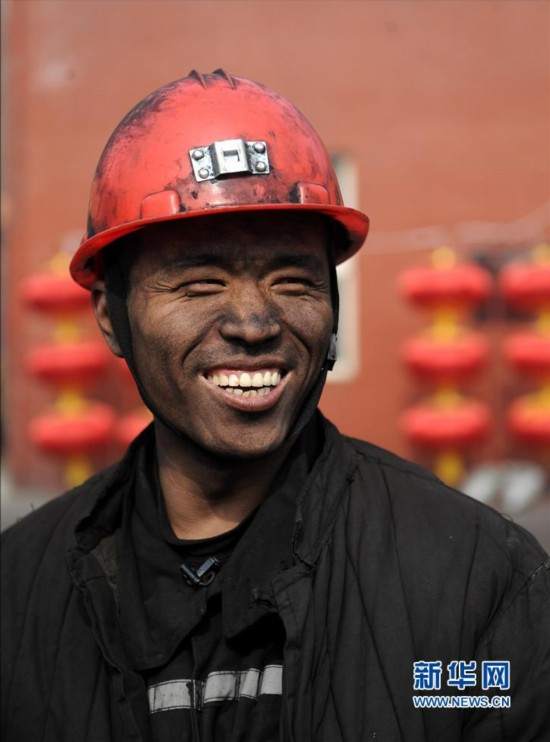helmet: (72, 75, 381, 446)
